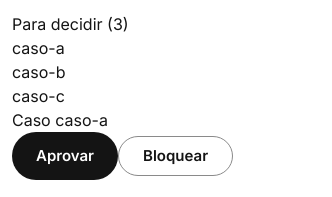
Test: Aprovar / Manter aprovado (AC 31, AC 33; D13; F5, F6, F7) › one click, no confirmation: the item leaves at once, the next is selected, the detail shows the skeleton; no navigation and no toast before the result
Click the button "Aprovar": (65, 156) [12, 132, 118, 180]
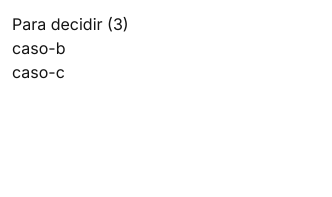
expect the heading "Caso caso-a" is gone: met
